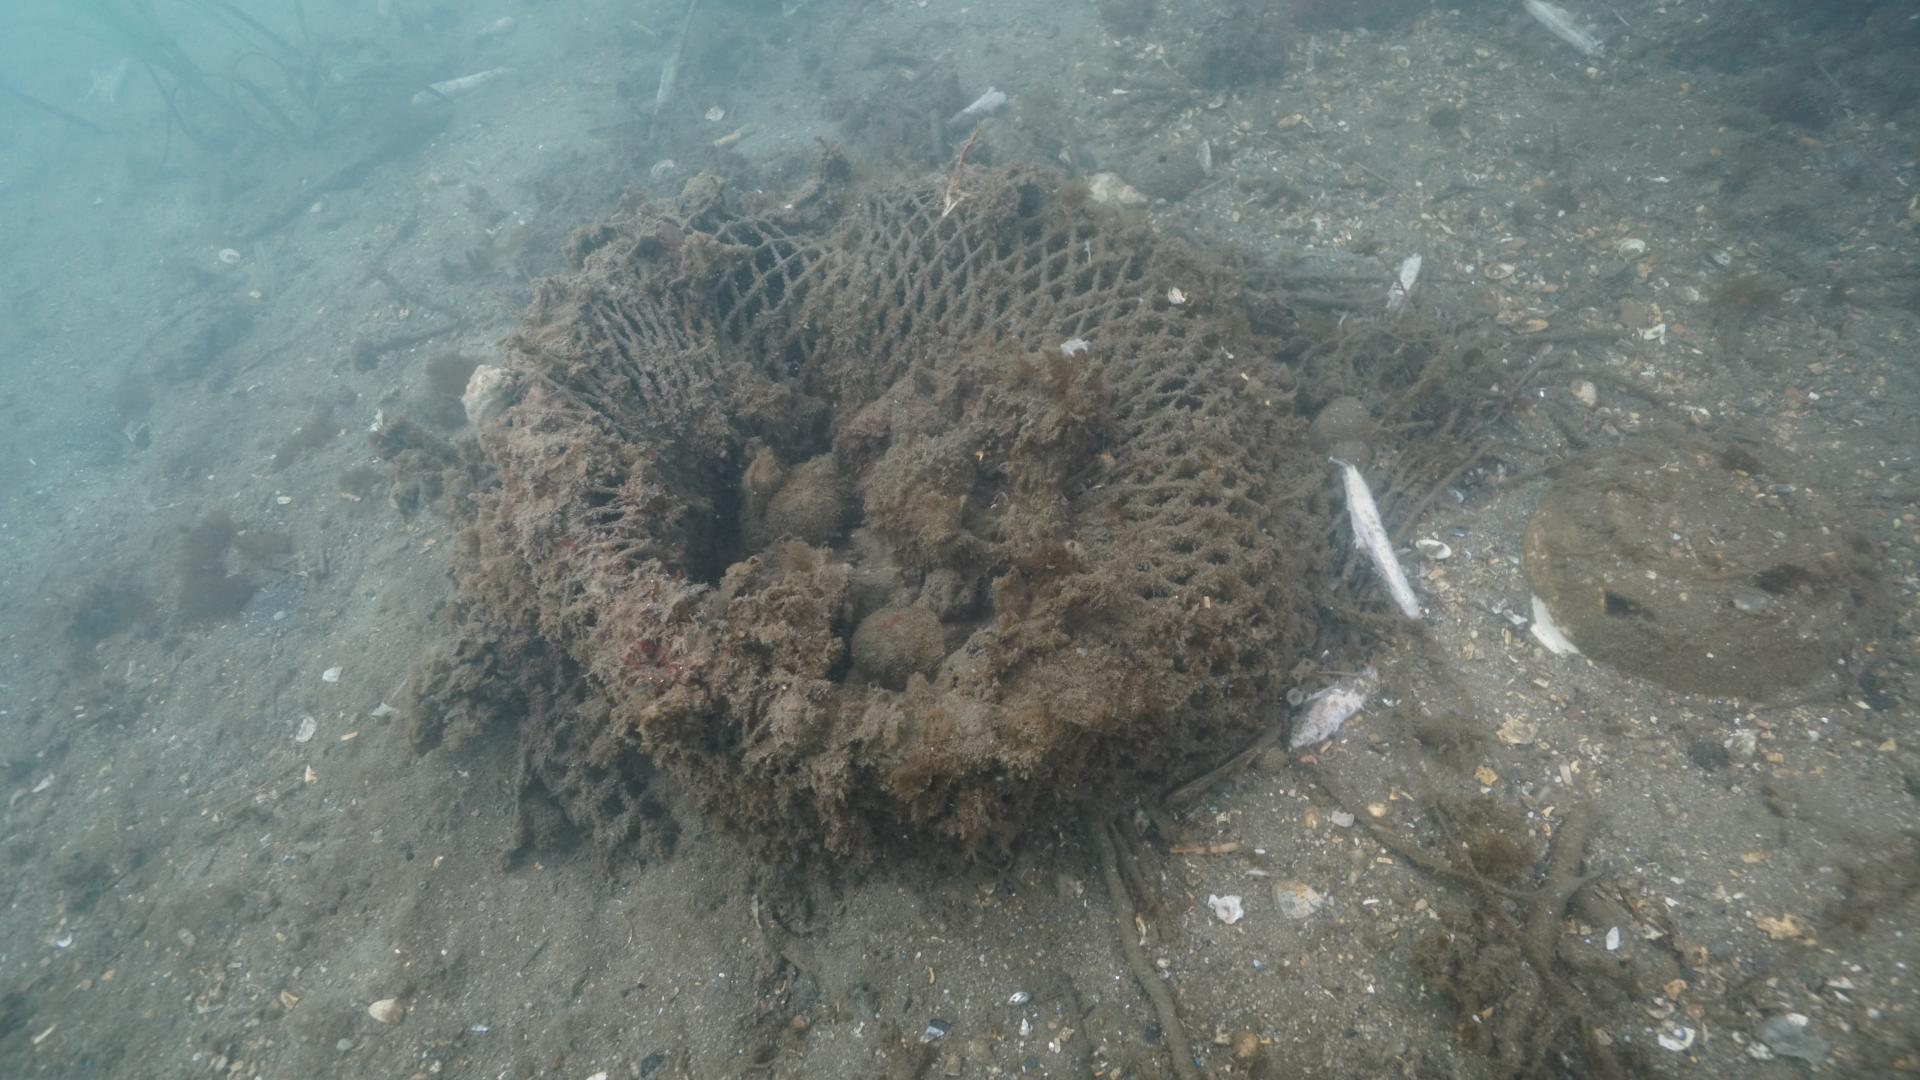fish net: (465, 164, 1313, 884)
